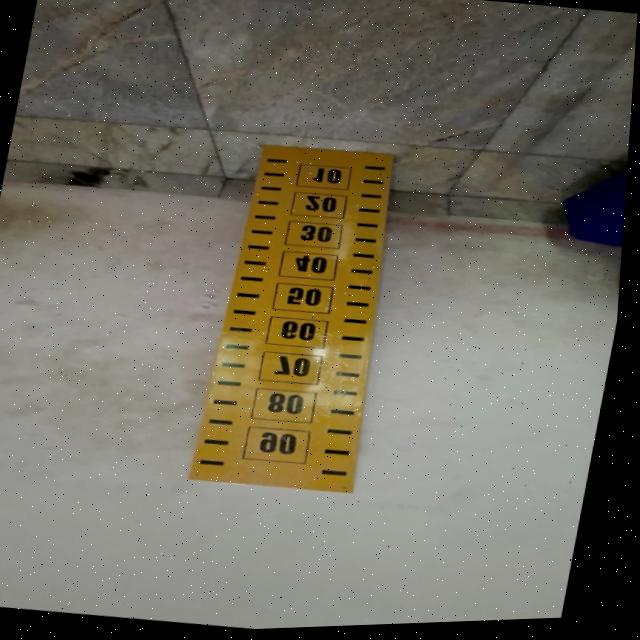water-meter: (149, 113, 452, 520)
